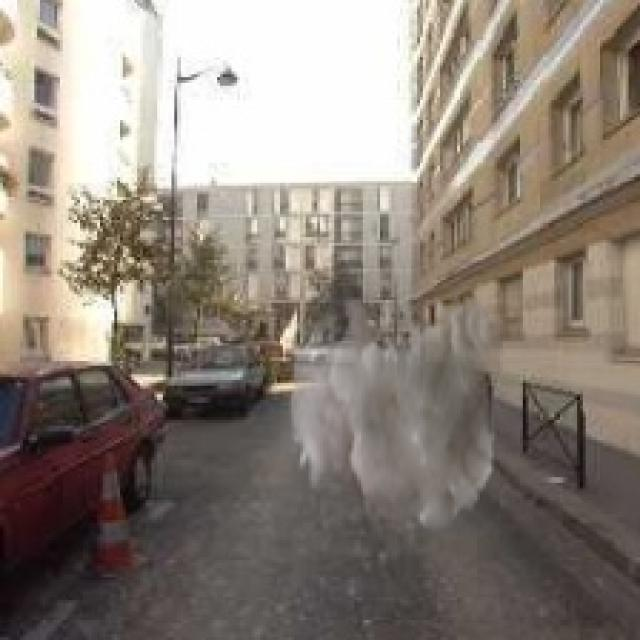smoke: (288, 288, 506, 563)
